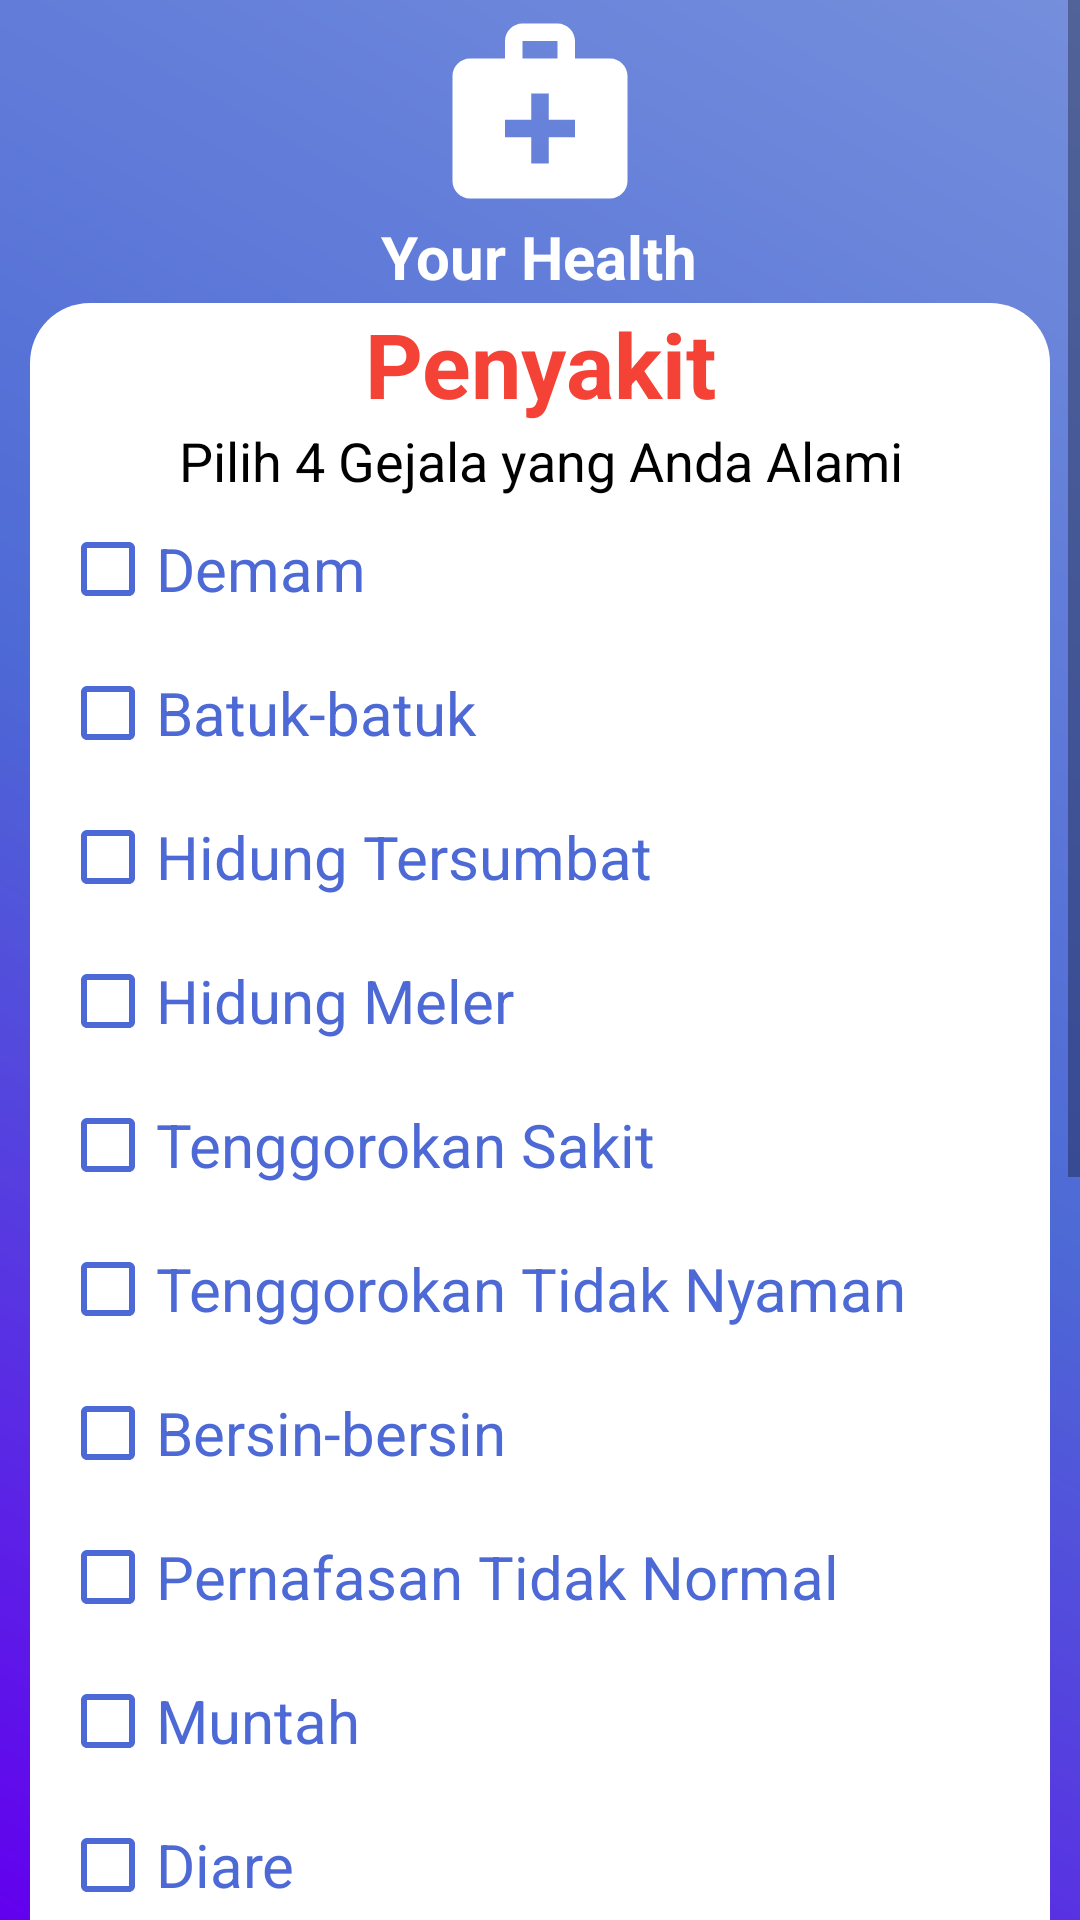

Locate icon controls on the screen. Image size 1080x1920, boxes as (x1, y1, x2, y2).
medic: (452, 23, 628, 199)
